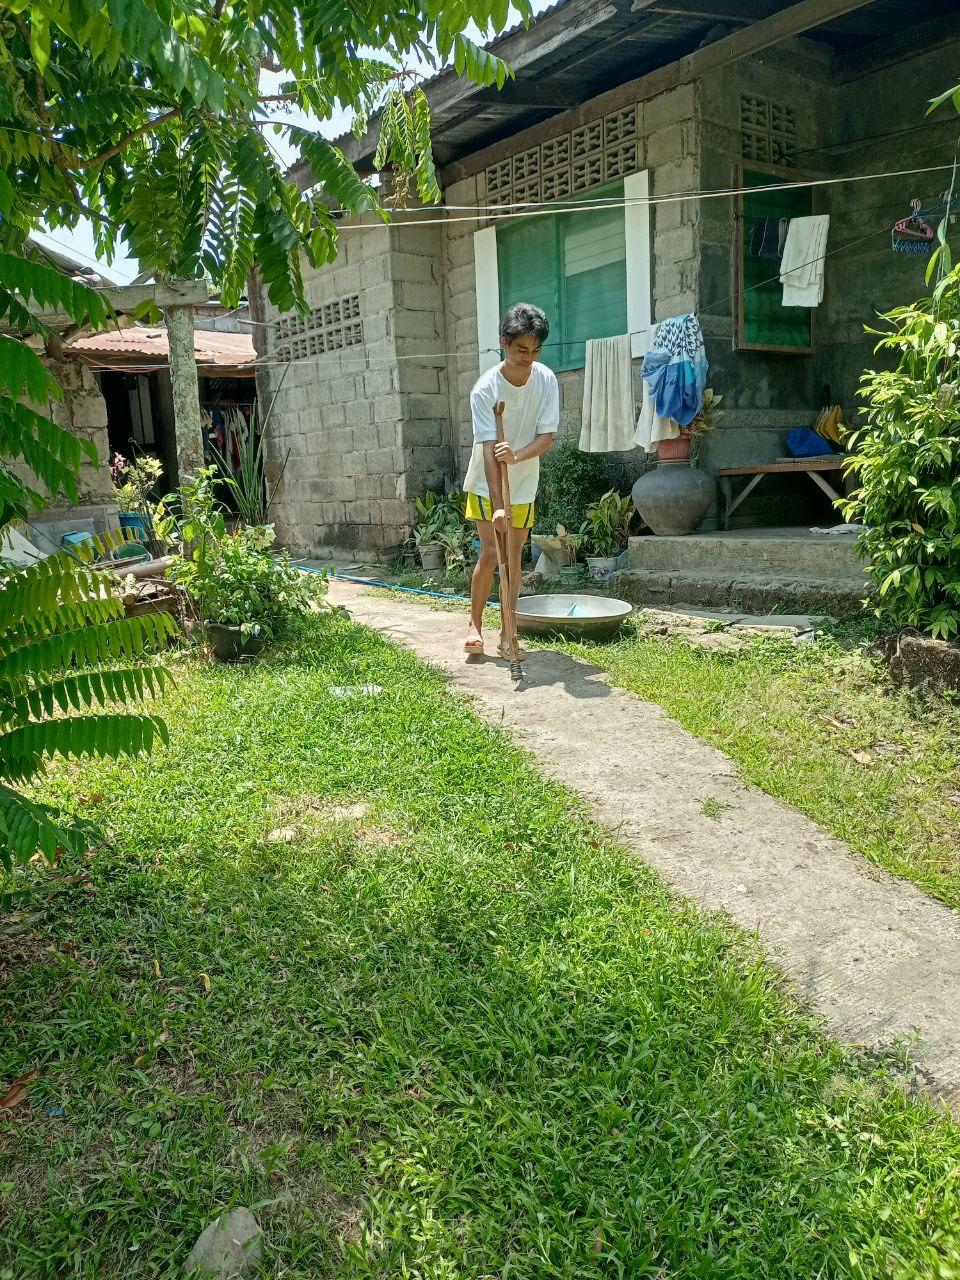crutches: (456, 300, 571, 688)
